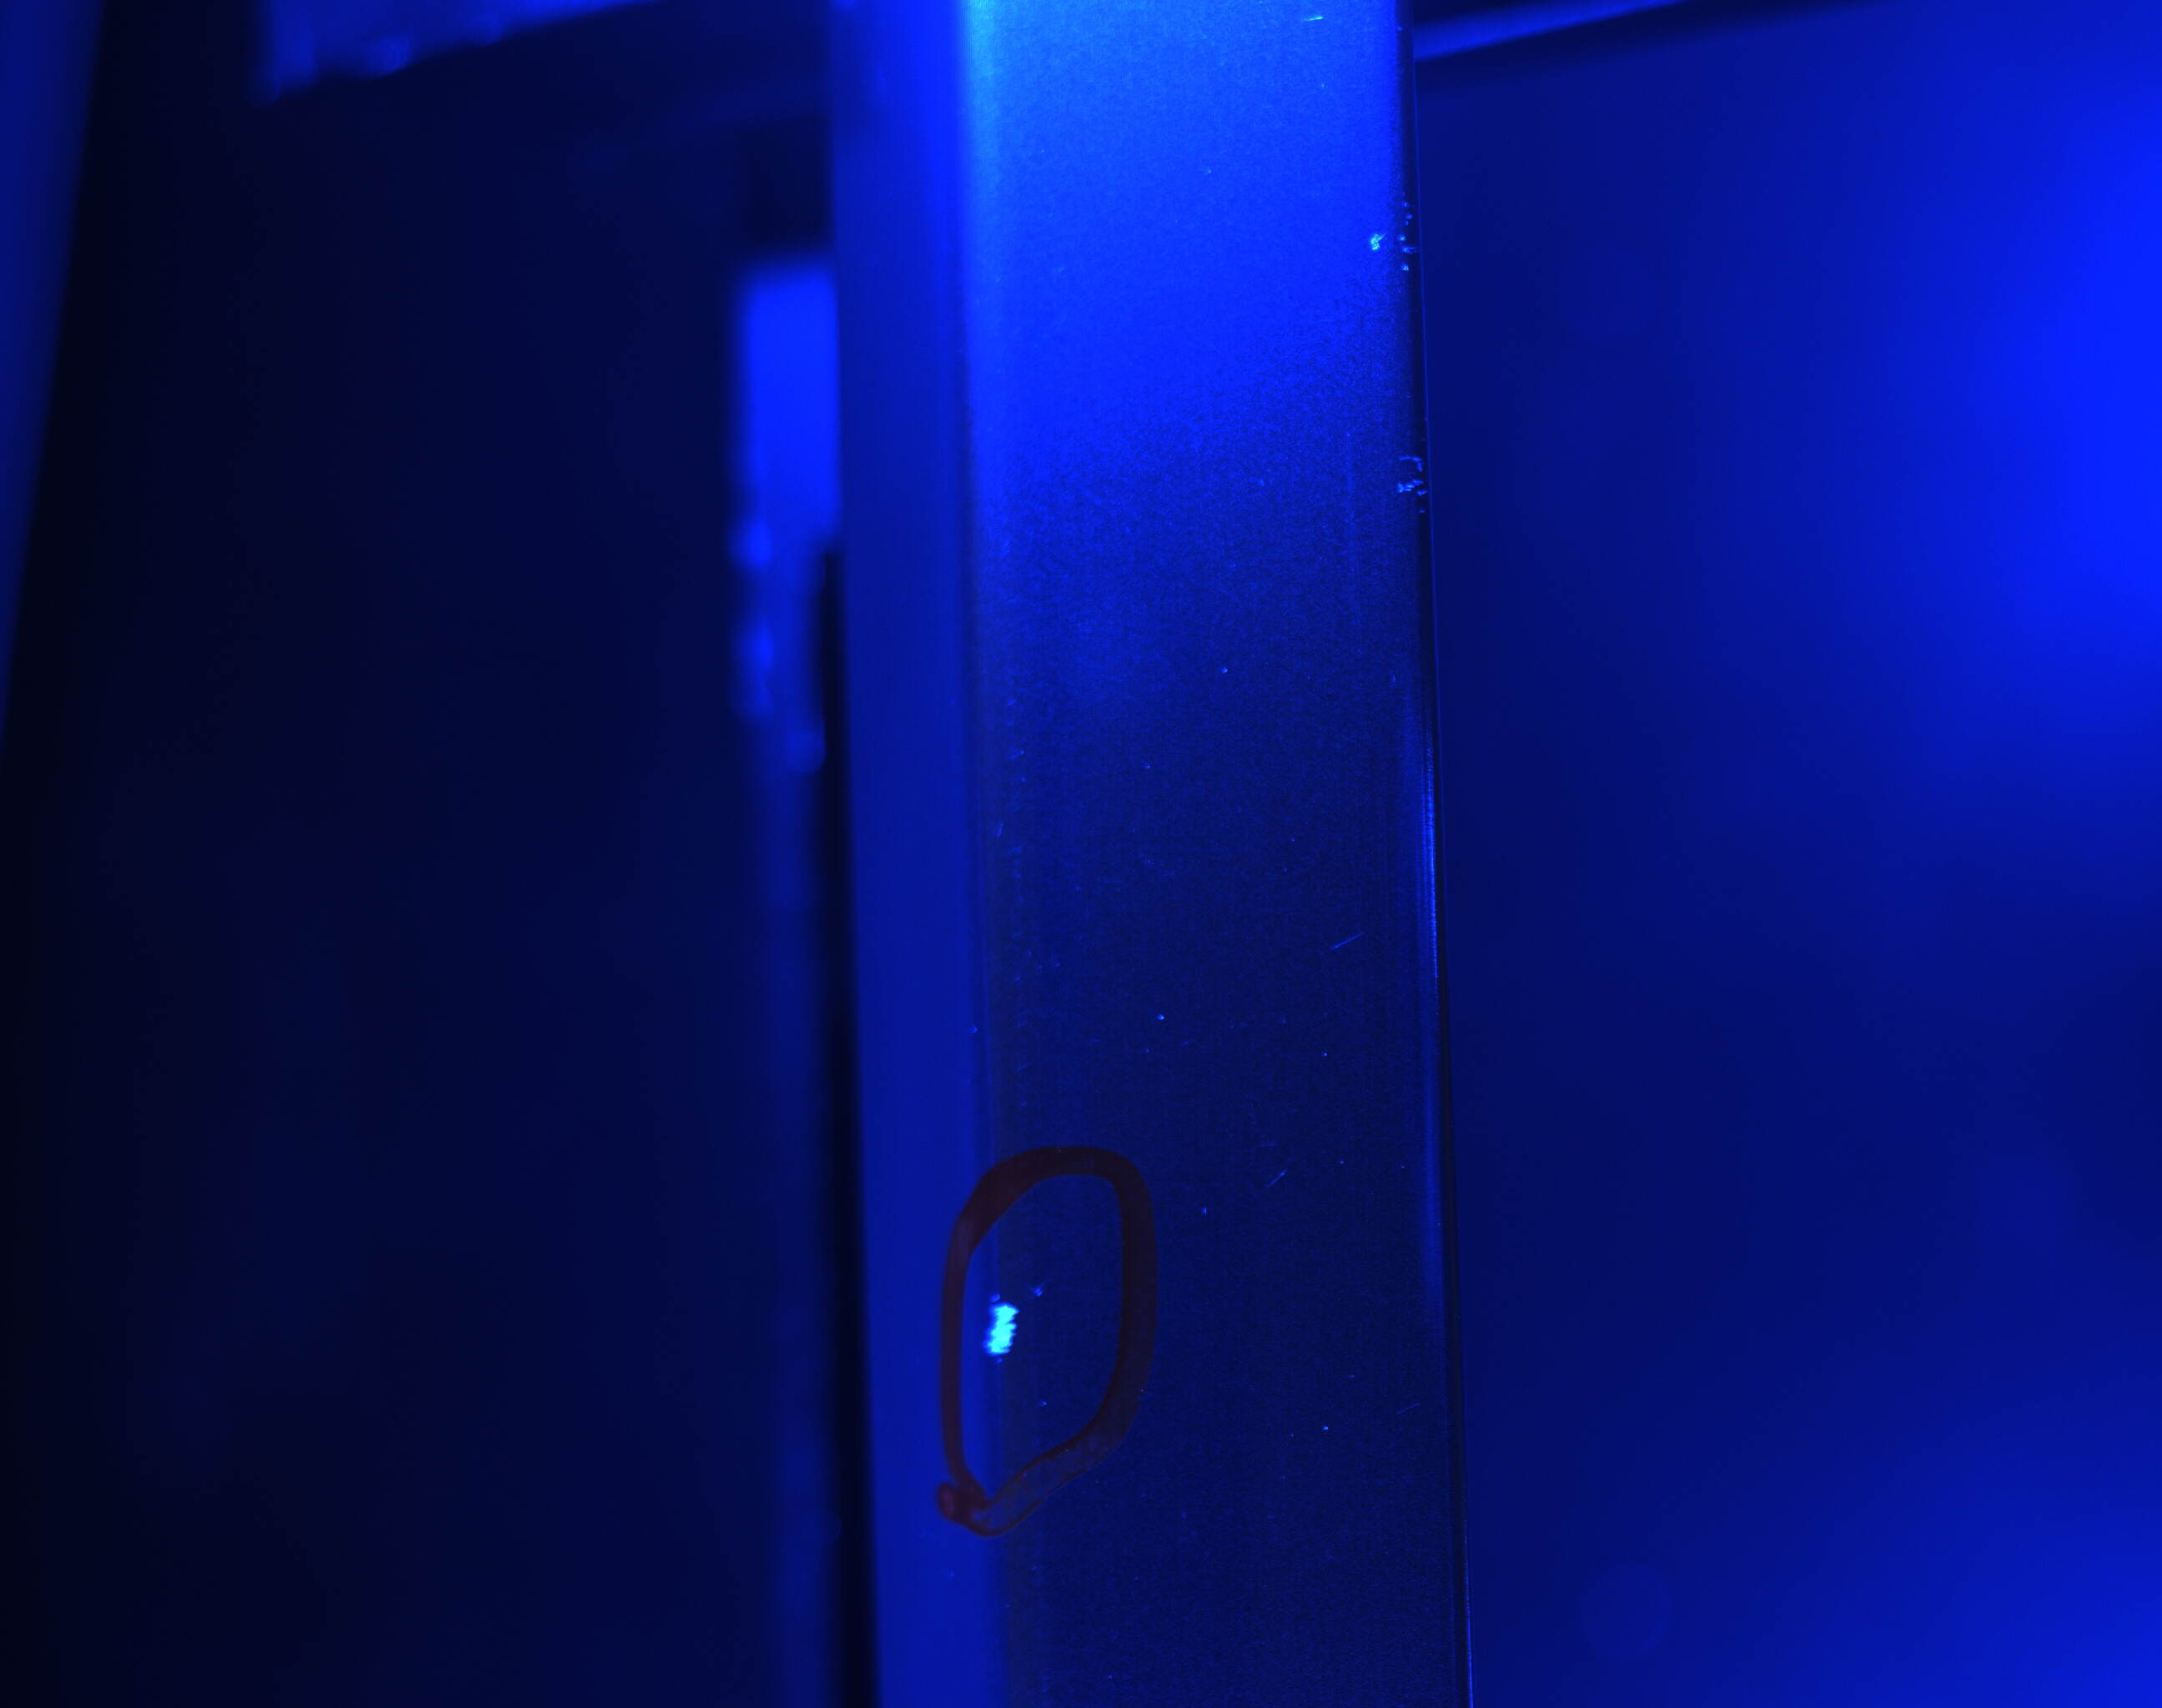NG: (969, 1290, 1046, 1376), (1362, 211, 1421, 284), (1385, 437, 1428, 520)
